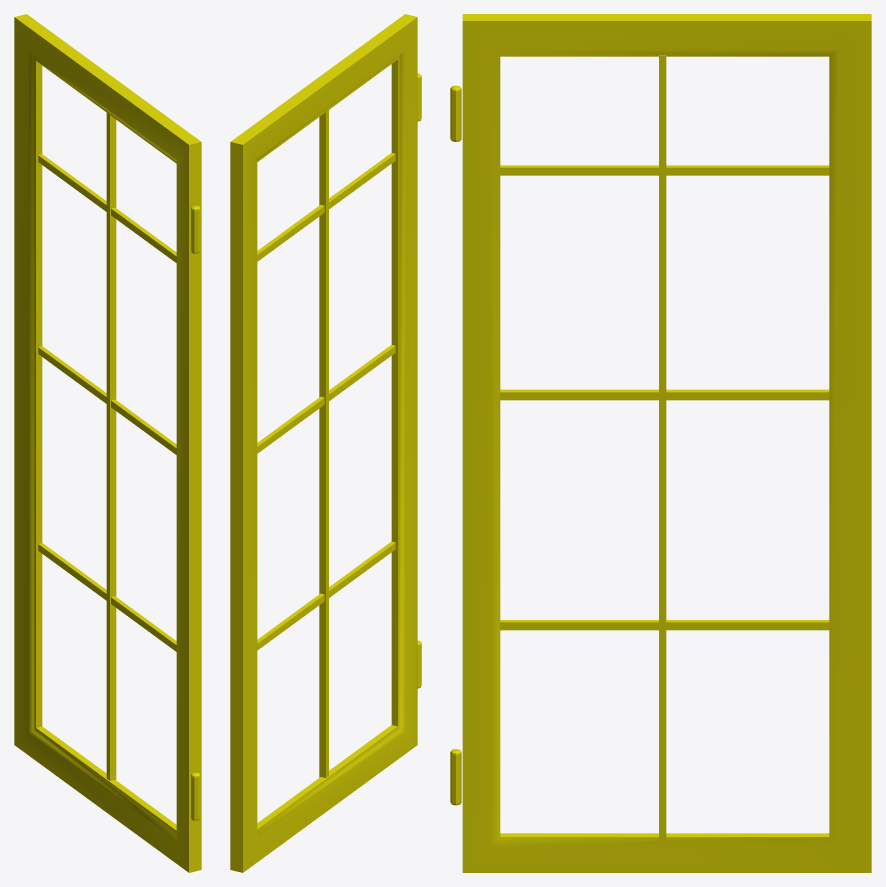
The model's file is Window_Large_Right_Door.fbx.
3 renders of one model, left to right at view 1: azimuth 30°, elevation 25°; view 2: azimuth 150°, elevation 25°; view 3: azimuth 270°, elevation 25°, orthographic. The views are drawn at different scales.
Visible parts, largest first — view 1: Window_Large_Right_Door; view 2: Window_Large_Right_Door; view 3: Window_Large_Right_Door.
Part boxes in pixels (x1,y1,x2,y2): Window_Large_Right_Door: [14, 14, 201, 872]; Window_Large_Right_Door: [230, 14, 421, 872]; Window_Large_Right_Door: [450, 14, 871, 872].
Size of the model in its own units: 5.64 by 301 by 135.
